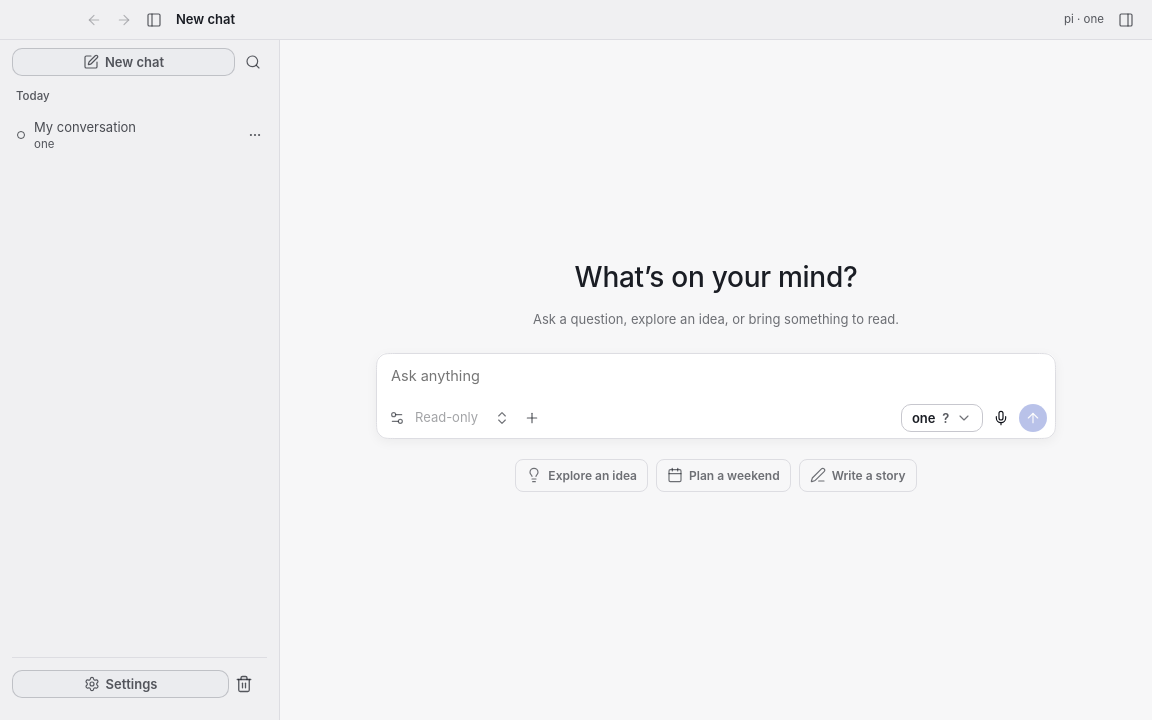
Chat UI › cancels editing without changing the conversation and keeps the composer focused
The width and height of the screenshot is (1152, 720).
Click the button "My conversation one" at (85, 127), box [4, 113, 275, 157]
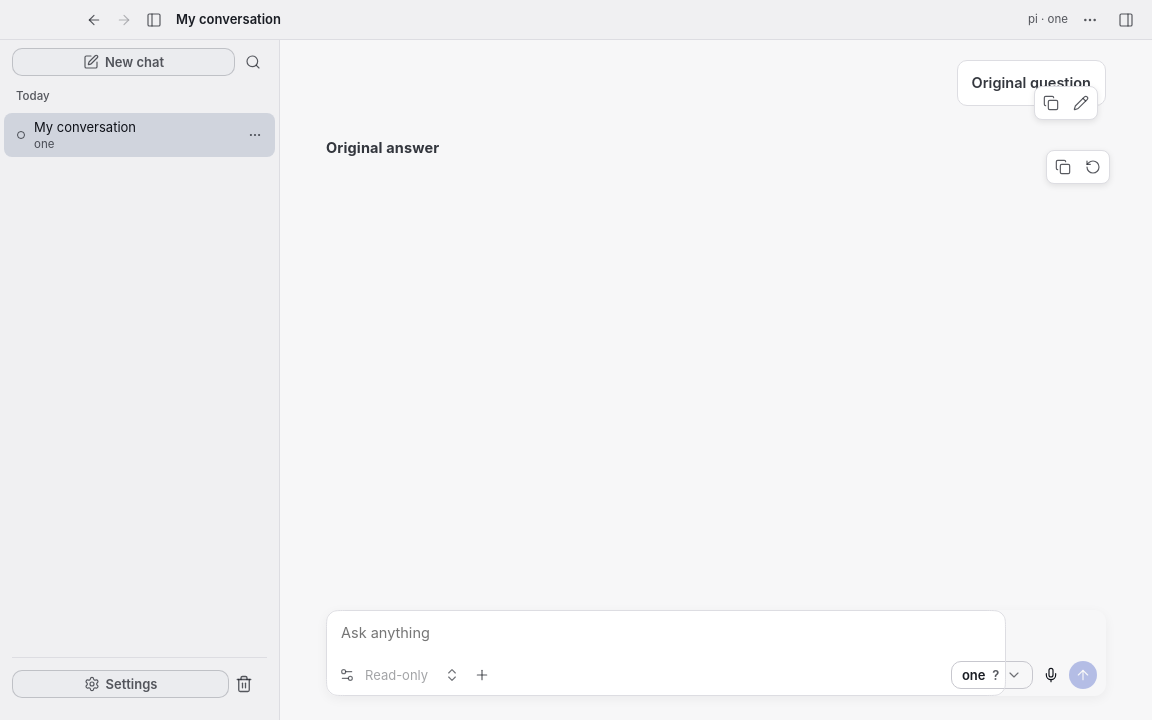
Now the heading "Original answer" is shown, box [326, 139, 439, 156]
Now the button named "Regenerate last answer" is enabled, box [1079, 153, 1107, 181]
Click the button named "Edit and resend" at (1081, 103), box [1067, 89, 1095, 117]
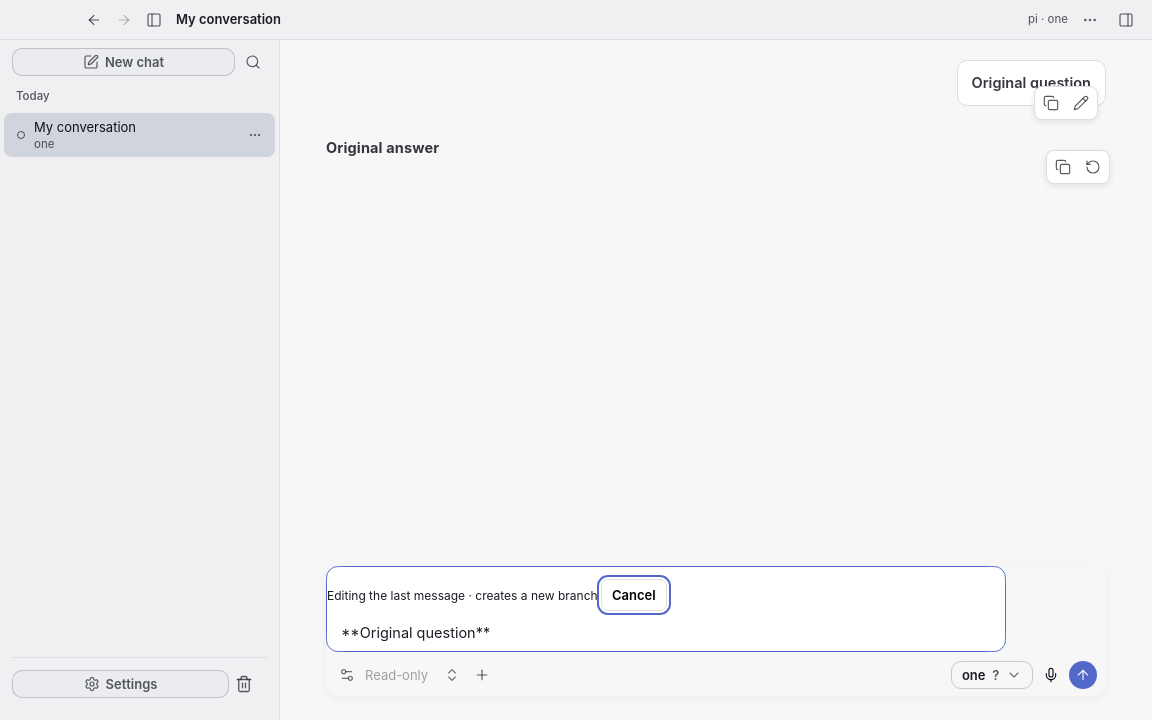
Now the text box named "Message" holds "**Original question**", box [327, 611, 1105, 655]
Click the button "Cancel" at (634, 595), box [601, 579, 667, 611]
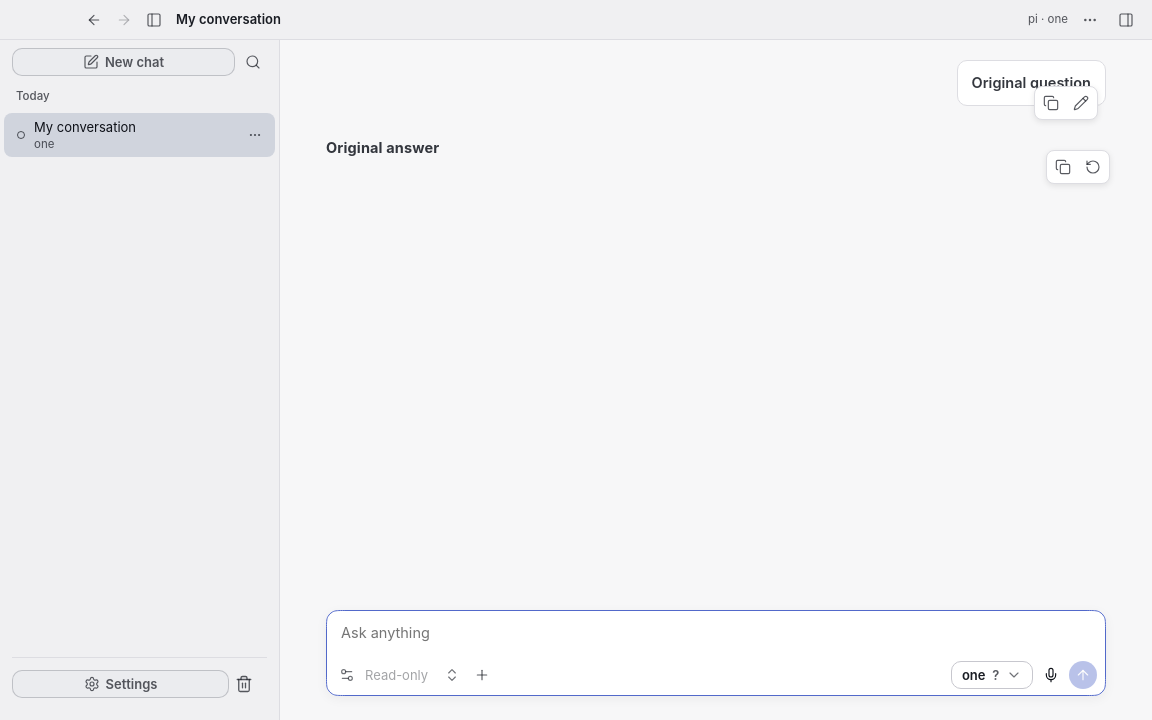
Now the heading "Original answer" is shown, box [326, 139, 439, 156]
Now the text box named "Message" is empty, box [327, 611, 1105, 655]
